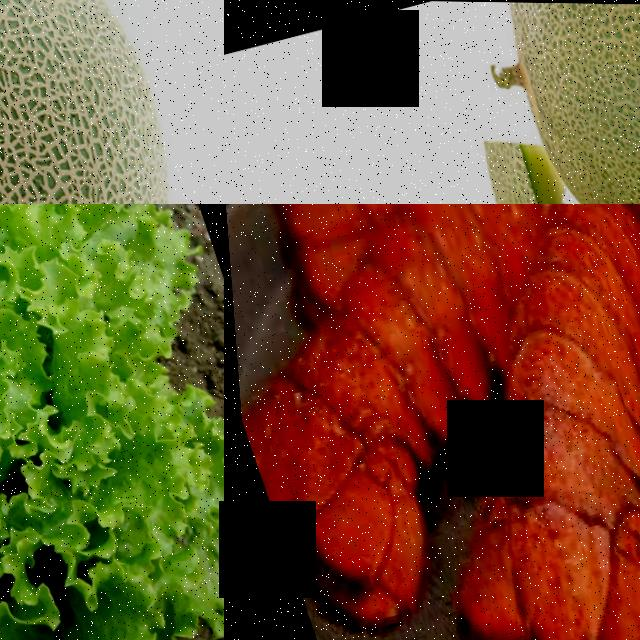lettuce: (0, 204, 224, 640)
lobster tails: (224, 211, 531, 615), (395, 298, 640, 640)
melon: (0, 0, 224, 204), (488, 0, 640, 204)
